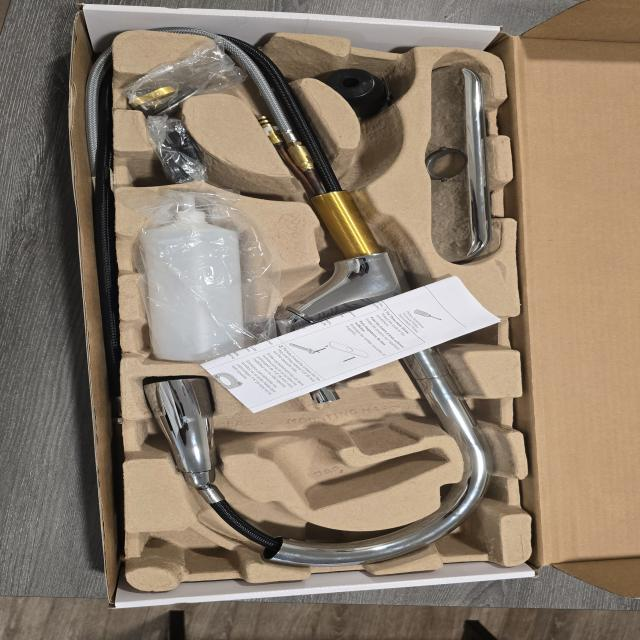1o: (141, 44, 499, 566)
2m: (234, 375, 445, 510)
3: (136, 195, 248, 362)
4: (424, 64, 489, 260)
5: (319, 69, 390, 118)
6: (118, 43, 233, 113)
7: (149, 115, 207, 181)
8: (200, 274, 503, 415)
